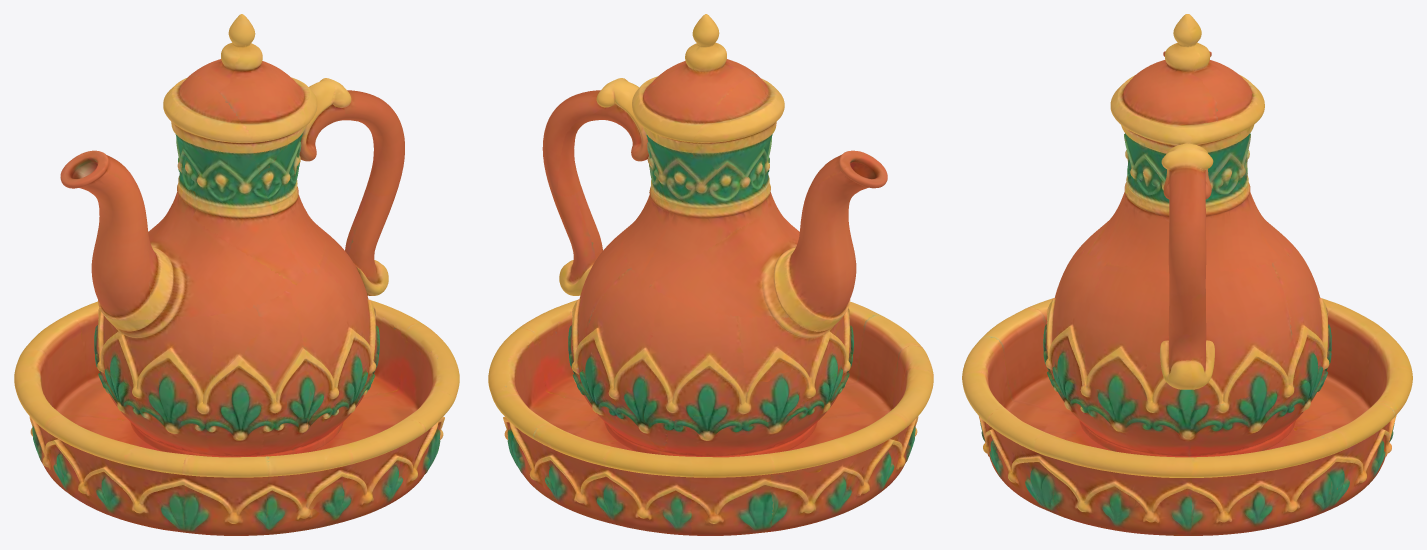
Rendered from Meshy_AI_model.glb.
3 renders of one model, left to right at view 1: azimuth 30°, elevation 25°; view 2: azimuth 150°, elevation 25°; view 3: azimuth 270°, elevation 25°, orthographic.
Parts seen in each view (by area): view 1: mesh_node; view 2: mesh_node; view 3: mesh_node.
Part boxes in pixels (x1,y1,x2,y2): mesh_node: (14,14,459,535); mesh_node: (488,14,933,535); mesh_node: (962,14,1412,535).
Size of the model in its own units: 1.75 by 1.9 by 1.75.
1 material, 1 textured.
